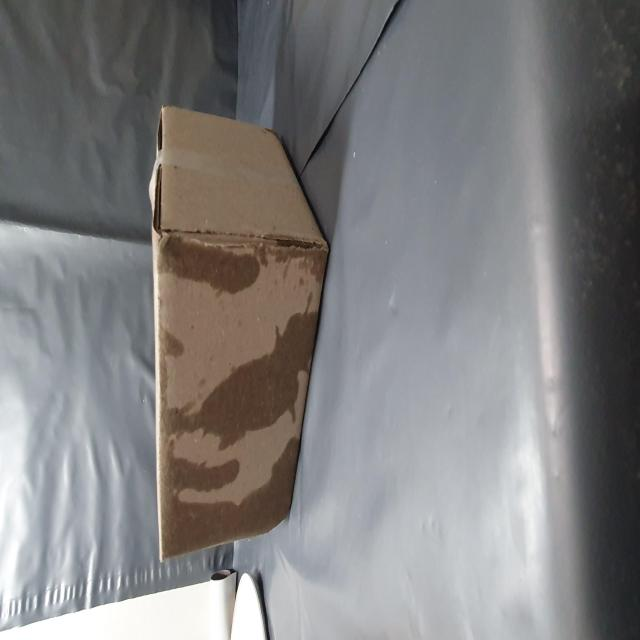wet: (49, 262, 236, 576)
